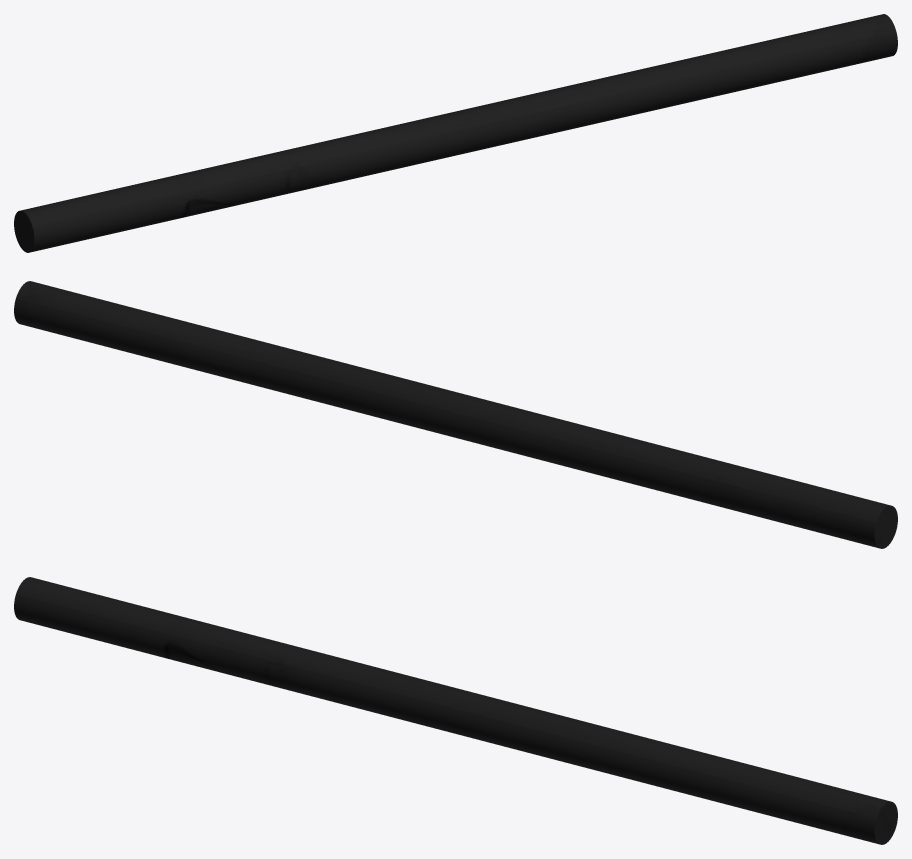
Rendered from frame__side_rail_0.glb.
The picture shows the model from 3 angles, top to bottom: view 1: azimuth 30°, elevation 25°; view 2: azimuth 150°, elevation 25°; view 3: azimuth 330°, elevation 25°; orthographic projection. The views are drawn at different scales.
Visible parts, largest first — view 1: world; view 2: world; view 3: world.
Part boxes in pixels (x1=…): world: x1=14, y1=14, x2=897, y2=252; world: x1=14, y1=281, x2=897, y2=548; world: x1=14, y1=577, x2=897, y2=844.
Bounding box in the file's own units: 0.6809 × 0.03 × 0.05.
1 material, 1 textured.
